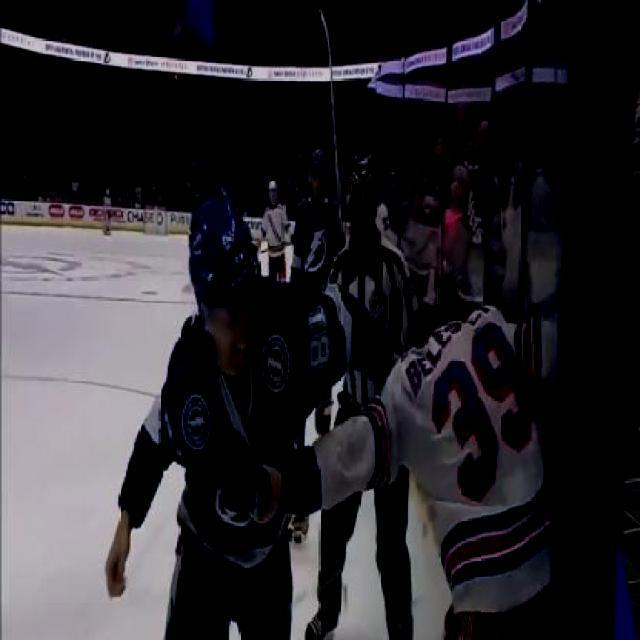fight: (102, 190, 540, 638)
